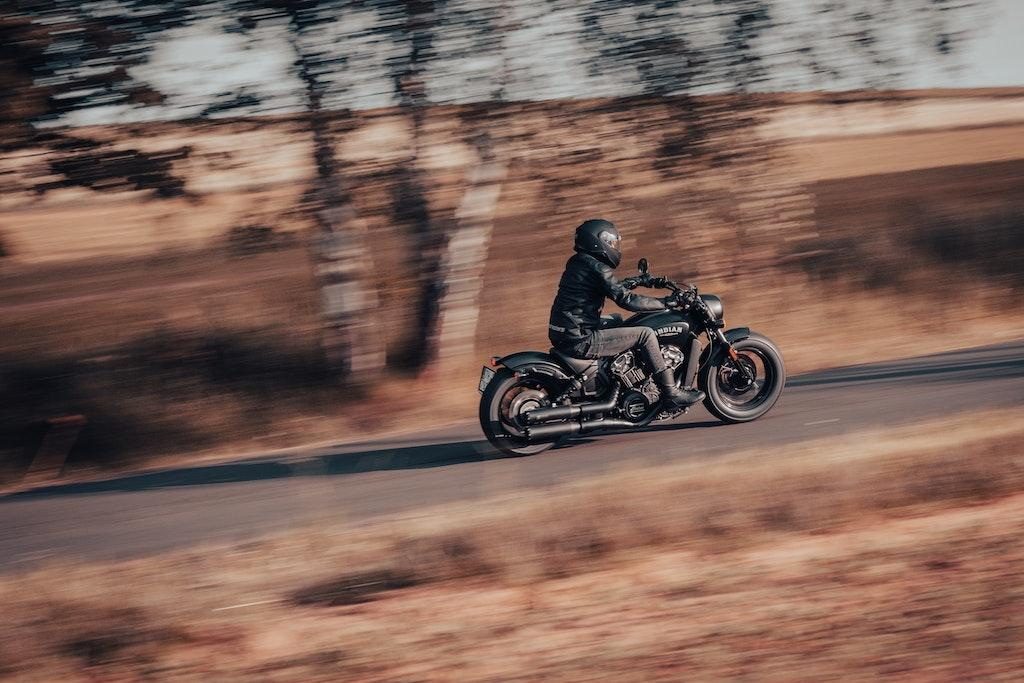helmet: (573, 218, 623, 270)
